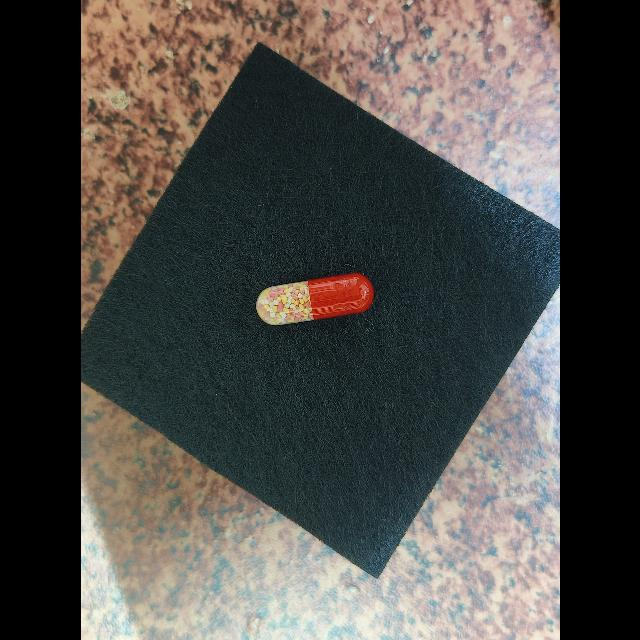Intact Capsule: (255, 273, 374, 325)
